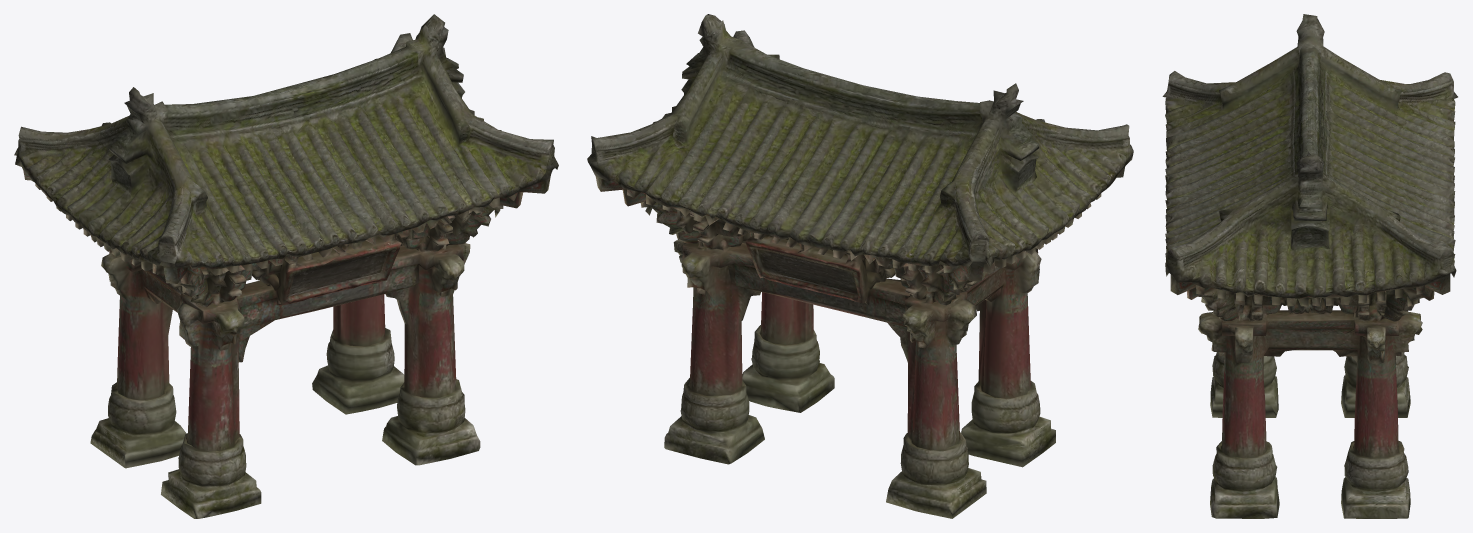
Rendered from t951_iljumun.glb.
3 views of the same model, side by side, from view 1: azimuth 30°, elevation 25°; view 2: azimuth 150°, elevation 25°; view 3: azimuth 270°, elevation 25° (orthographic). The views are drawn at different scales.
Parts seen in each view (by area): view 1: tripo_node_1e4bb1b4-3570-436a-aec2-a8f21cc6cf2f; view 2: tripo_node_1e4bb1b4-3570-436a-aec2-a8f21cc6cf2f; view 3: tripo_node_1e4bb1b4-3570-436a-aec2-a8f21cc6cf2f.
Boxes of the visible parts, x1,y1,x2,y2 form: tripo_node_1e4bb1b4-3570-436a-aec2-a8f21cc6cf2f: [14, 14, 558, 518]; tripo_node_1e4bb1b4-3570-436a-aec2-a8f21cc6cf2f: [587, 14, 1133, 518]; tripo_node_1e4bb1b4-3570-436a-aec2-a8f21cc6cf2f: [1162, 14, 1457, 518].
Bounding box in the file's own units: 0.9808 × 0.9171 × 0.6652.
Materials: 1 (1 with a texture image).
